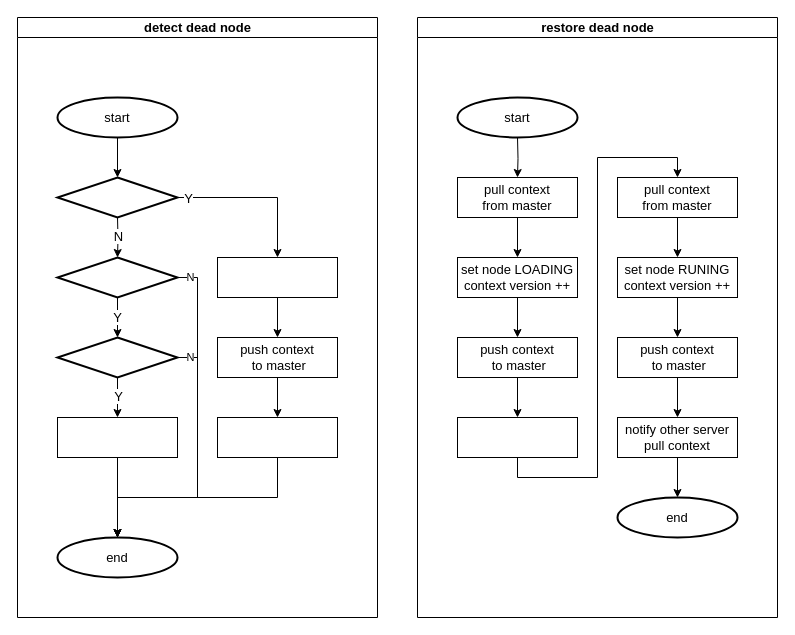
The diagram is 795 pixels wide and 635 high, and some of its shapes have lost their labels. Here are the shapes that lost their labels. From the top down, the centre of each, then its label:
(117,197): master expired?
(117,277): connection broken?
(277,277): set node DEAD context version ++
(117,357): node is RUNNING?
(117,437): set node UNAVAILABLE
(277,437): notify server pull context
(517,437): restore
